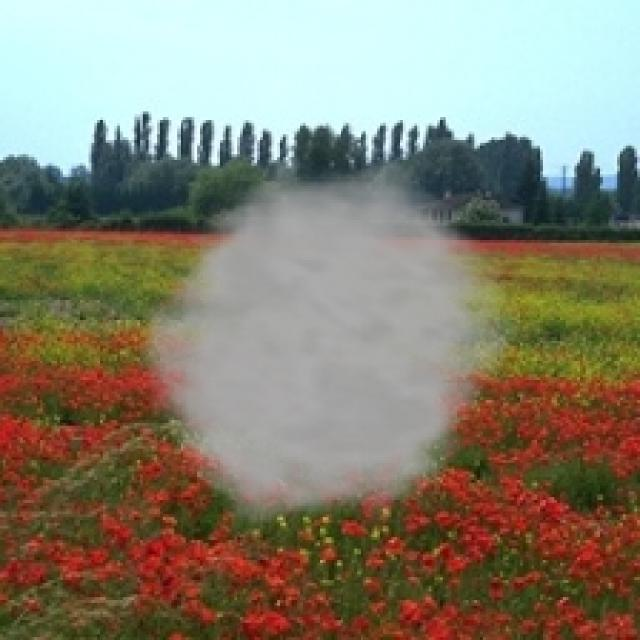smoke: (128, 157, 528, 540)
